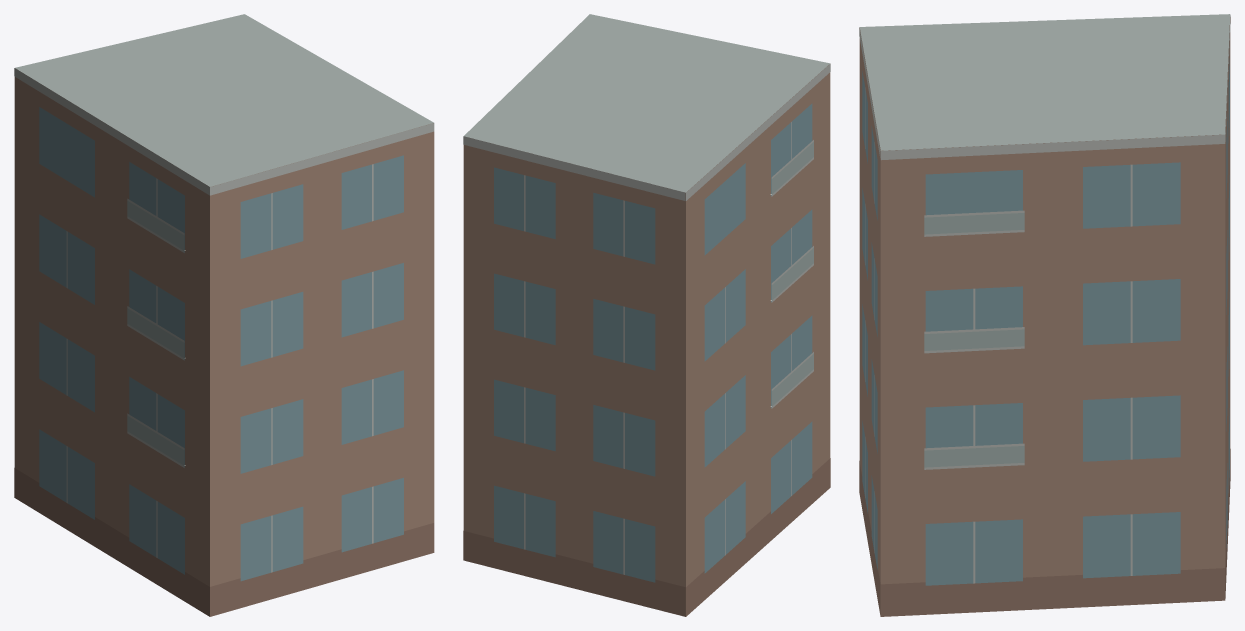
File: survey-upis-32756284.glb
3 renders of one model, left to right at view 1: azimuth 30°, elevation 25°; view 2: azimuth 150°, elevation 25°; view 3: azimuth 270°, elevation 25°, orthographic. The views are drawn at different scales.
Parts seen in each view (by area): view 1: survey-upis-32756284.tmp; view 2: survey-upis-32756284.tmp; view 3: survey-upis-32756284.tmp.
Part boxes in pixels (x1,y1,x2,y2): survey-upis-32756284.tmp: (14, 14, 434, 616); survey-upis-32756284.tmp: (463, 14, 830, 616); survey-upis-32756284.tmp: (859, 14, 1230, 616).
Size of the model in its own units: 7.63 by 12.1 by 8.73.
